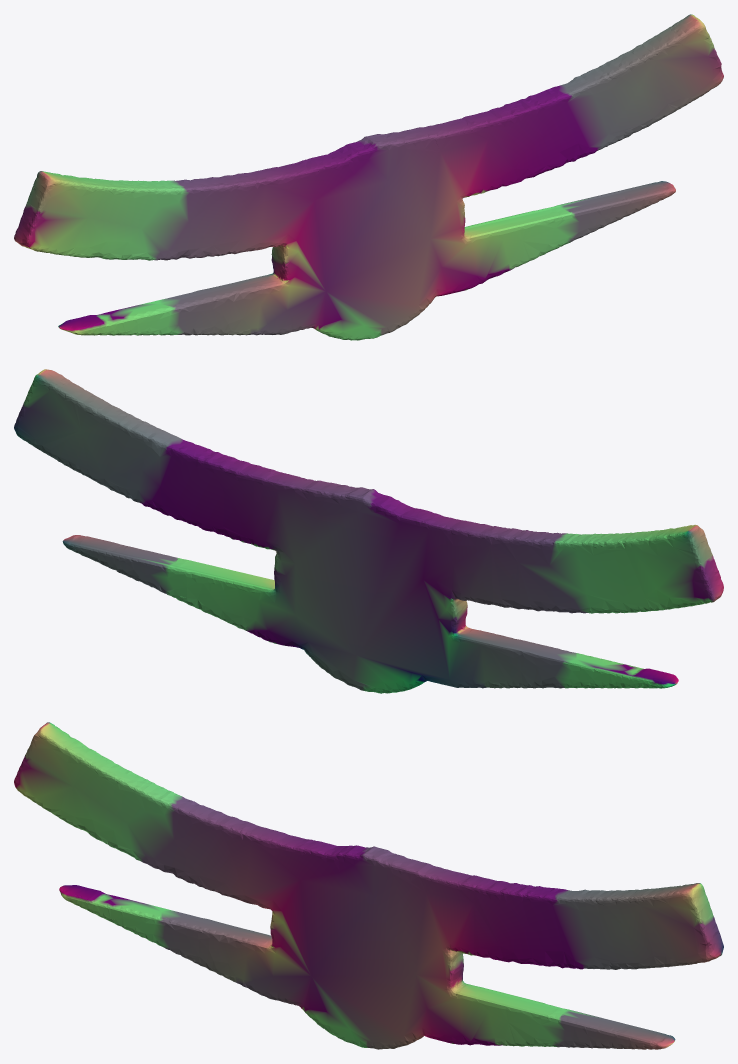
The model's file is scissor-11.off.obj.
3 views of the same model, one above another, from view 1: azimuth 30°, elevation 25°; view 2: azimuth 150°, elevation 25°; view 3: azimuth 330°, elevation 25° (orthographic).
Size of the model in its own units: 1.8 by 0.5839 by 0.059.
